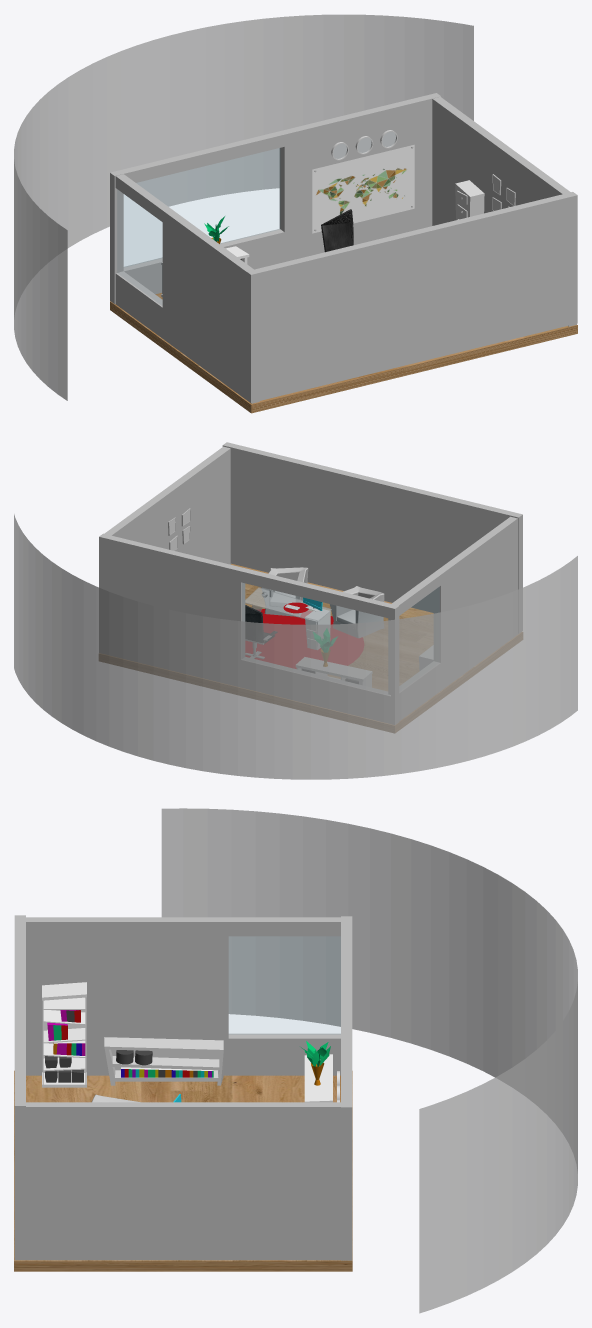
Rendered from office - schräg_modgame.fbx.
The picture shows the model from 3 angles, top to bottom: view 1: azimuth 30°, elevation 25°; view 2: azimuth 150°, elevation 25°; view 3: azimuth 270°, elevation 25°; orthographic projection. The views are drawn at different scales.
Visible parts, largest first — view 1: Röhre_2, Würfel_2_13, Würfel_1_12, Würfel_4_8, Würfel_3_12, Ebene, Würfel_19, Würfel_1_8, Fenster_1, Würfel_6_4, Fenster; view 2: Röhre_2, Würfel_2_13, Würfel_1_12, Würfel_4_8, Würfel_3_12, Würfel_19, Scheibe_2, Würfel_7_3, Würfel_1_11, Fenster_1, Würfel_8, Fenster (+2 smaller); view 3: Röhre_2, Würfel_3_12, Würfel_4_8, Würfel_19, Würfel_1_12, Würfel_2_13, Boole_1, Würfel_1_3, Würfel_4_4, Würfel_1_5, Fenster.
Part boxes in pixels (left/top/right/bottom): Röhre_2: left=14, top=14, right=473, bottom=400; Würfel_2_13: left=246, top=192, right=577, bottom=402; Würfel_1_12: left=110, top=93, right=441, bottom=304; Würfel_4_8: left=115, top=174, right=259, bottom=403; Würfel_3_12: left=432, top=97, right=576, bottom=326; Ebene: left=312, top=144, right=414, bottom=233; Würfel_19: left=110, top=293, right=577, bottom=413; Würfel_1_8: left=321, top=209, right=353, bottom=252; Fenster_1: left=120, top=147, right=284, bottom=272; Würfel_6_4: left=455, top=180, right=484, bottom=220; Fenster: left=116, top=191, right=162, bottom=307; Röhre_2: left=14, top=514, right=577, bottom=779; Würfel_2_13: left=222, top=442, right=522, bottom=633; Würfel_1_12: left=99, top=533, right=399, bottom=724; Würfel_4_8: left=388, top=516, right=517, bottom=720; Würfel_3_12: left=104, top=446, right=231, bottom=564; Würfel_19: left=99, top=564, right=522, bottom=732; Scheibe_2: left=246, top=609, right=363, bottom=668; Würfel_7_3: left=330, top=586, right=384, bottom=637; Würfel_1_11: left=245, top=587, right=331, bottom=622; Fenster_1: left=241, top=582, right=390, bottom=695; Würfel_8: left=261, top=567, right=308, bottom=616; Fenster: left=399, top=586, right=440, bottom=692; Röhre_2: left=161, top=808, right=577, bottom=1313; Würfel_3_12: left=14, top=1102, right=340, bottom=1260; Würfel_4_8: left=26, top=917, right=340, bottom=1075; Würfel_19: left=14, top=1070, right=352, bottom=1271; Würfel_1_12: left=341, top=916, right=352, bottom=1260; Würfel_2_13: left=14, top=915, right=25, bottom=1259; Boole_1: left=104, top=1037, right=223, bottom=1085; Würfel_1_3: left=304, top=1054, right=332, bottom=1102; Würfel_4_4: left=121, top=1067, right=213, bottom=1077; Würfel_1_5: left=42, top=982, right=86, bottom=1000; Fenster: left=228, top=1033, right=340, bottom=1038.
Size of the model in its own units: 1261 by 400 by 1000.
